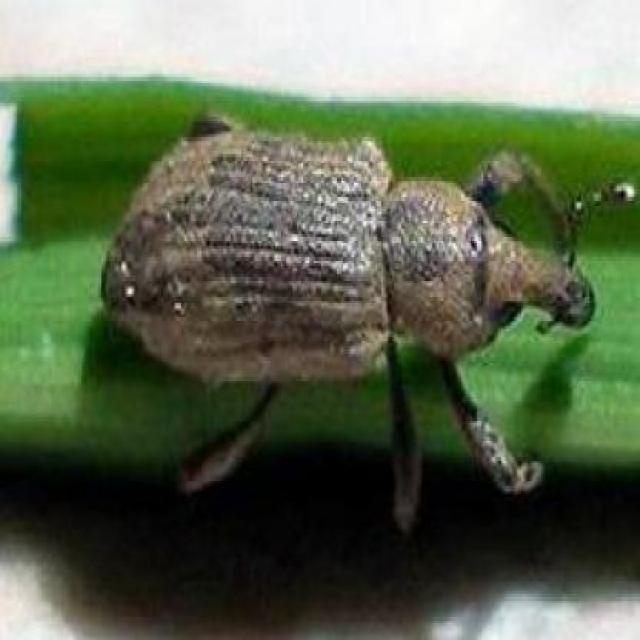rice-bug: (101, 119, 596, 432)
